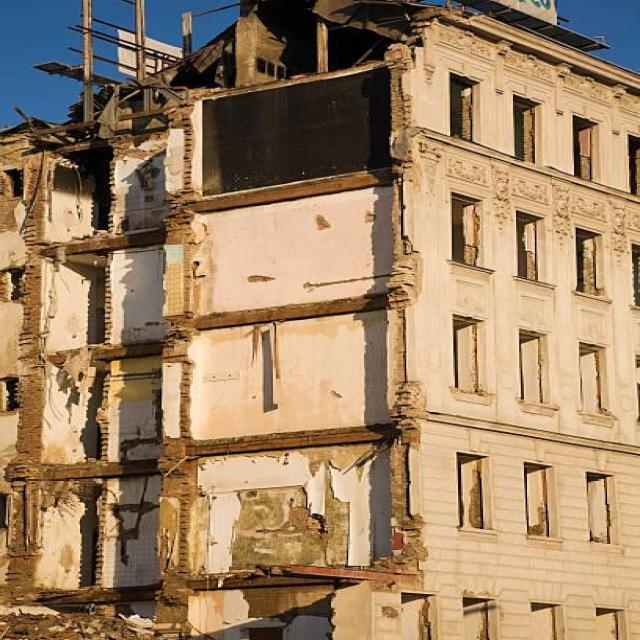horizontal crack: (294, 272, 392, 291), (111, 246, 166, 258)
vertical crack: (138, 473, 154, 508)
